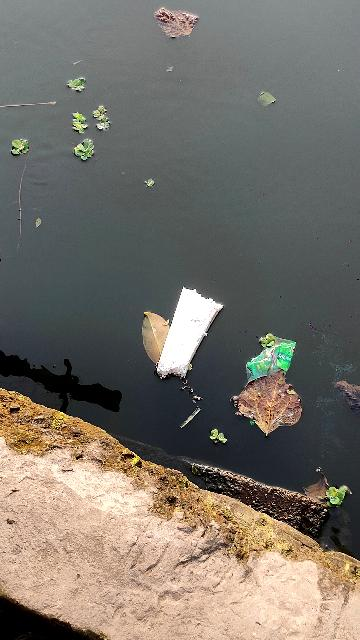cocksheet: (135, 283, 225, 389)
